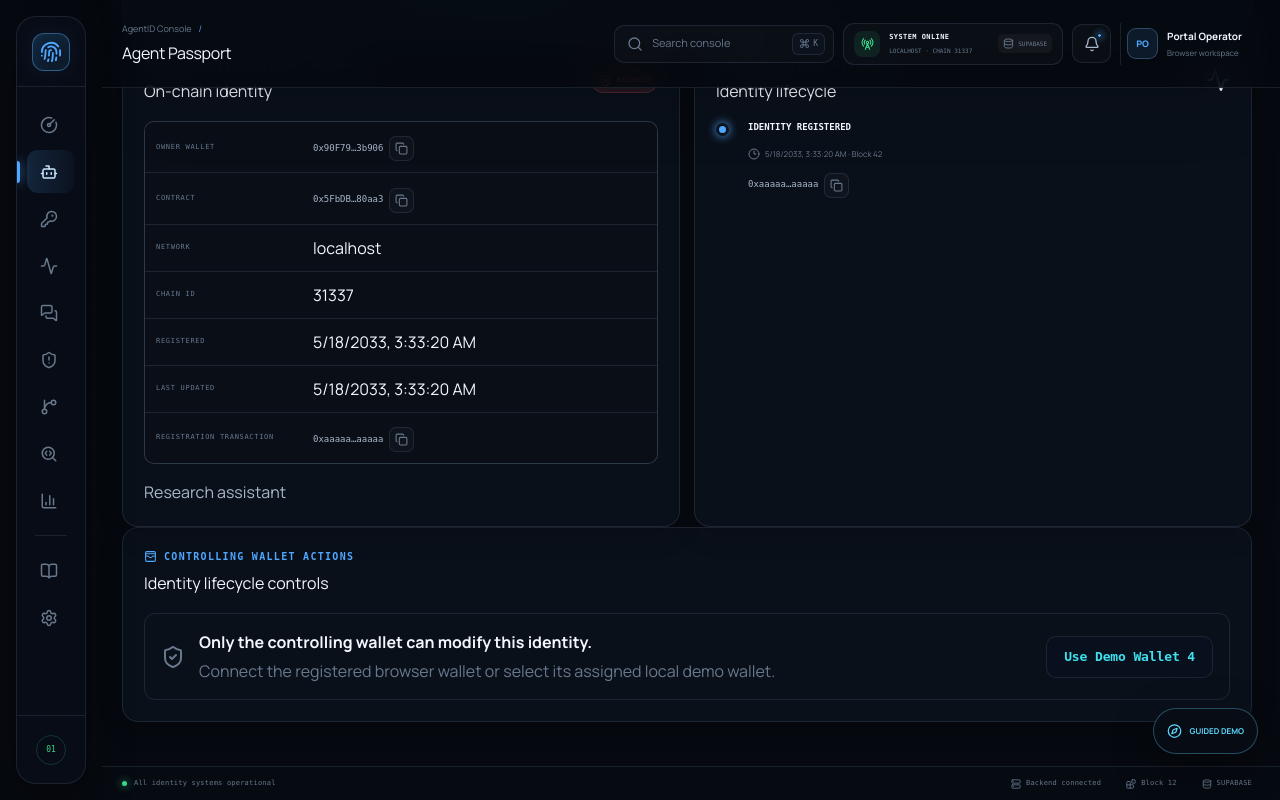
Test case: Stage 5 registry and Passport › allows the owner to reactivate a revoked identity
(page scrolled)
Check: the text "Only the controlling wallet can modify this identity." is shown, box [199, 631, 592, 653]
Click the button "Use Demo Wallet 4": [1130, 657] box [1046, 636, 1213, 678]
(page scrolled)
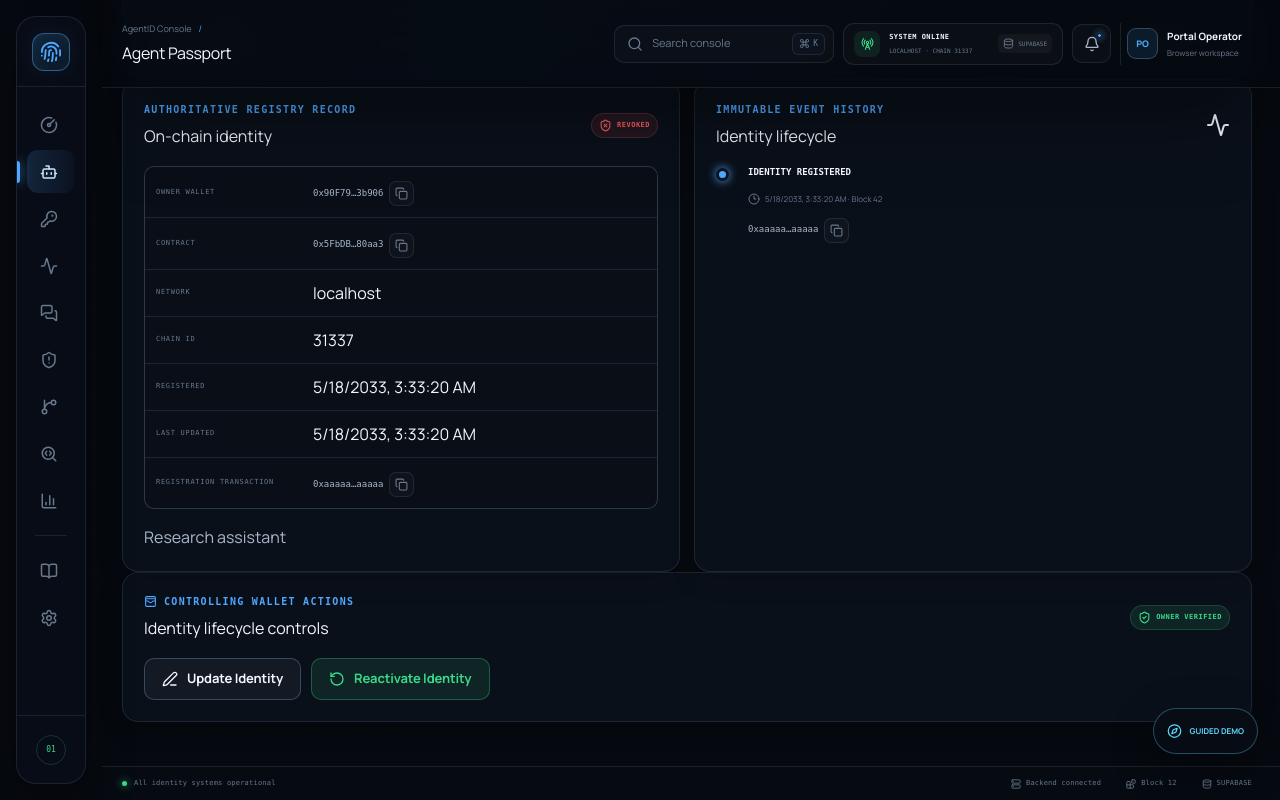
Click the button "Reactivate Identity": [400, 679] box [311, 658, 490, 700]
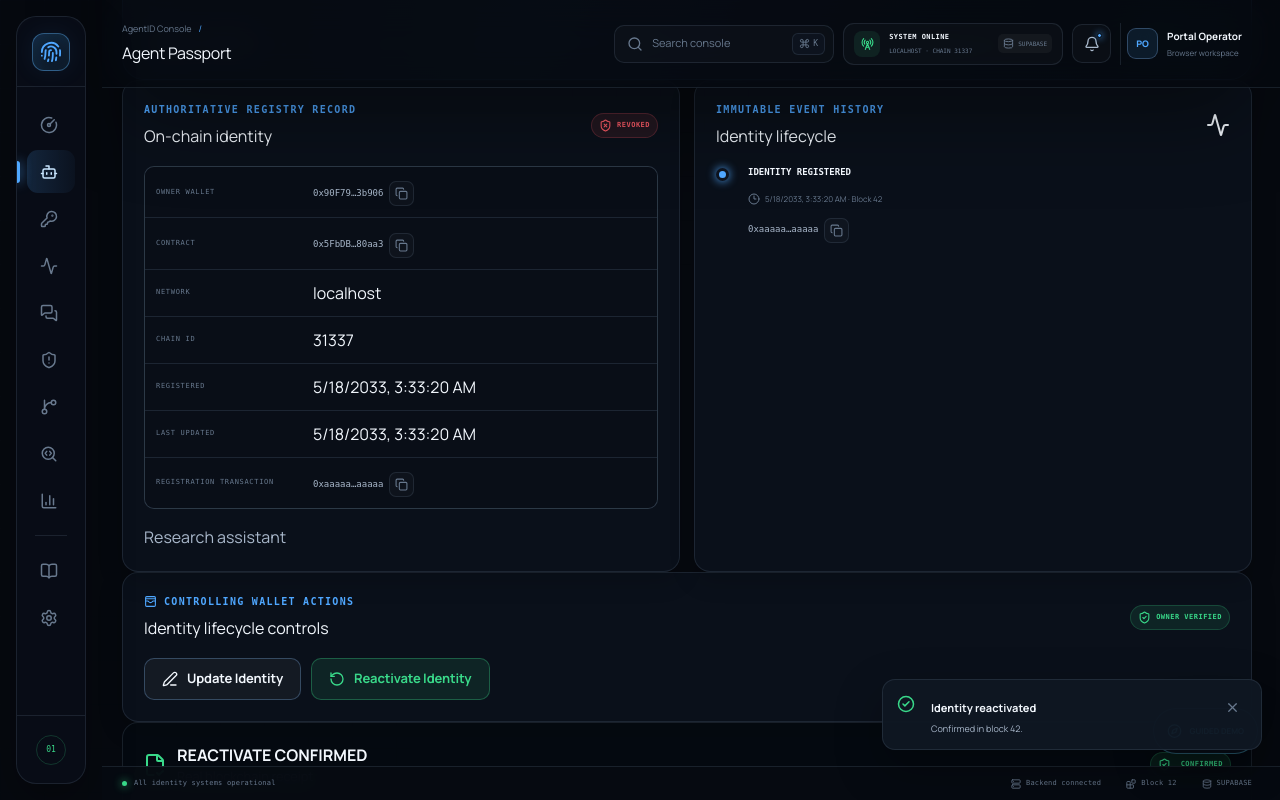
Check: the text "REACTIVATE CONFIRMED" is shown, box [177, 743, 368, 767]
